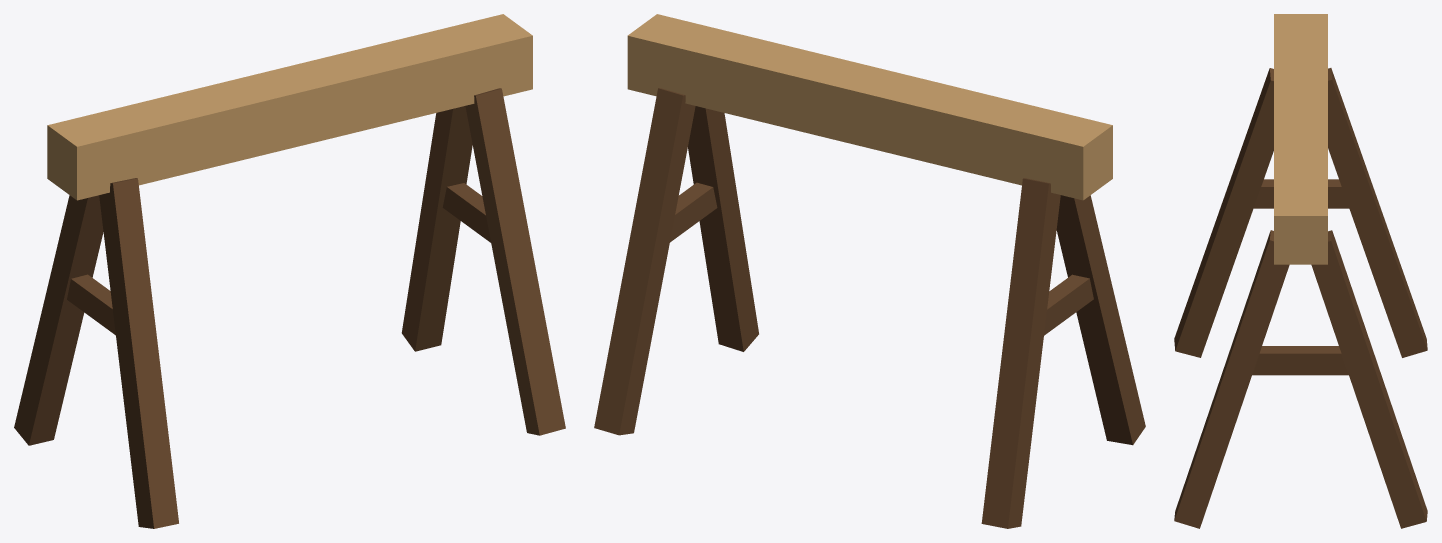
File: GT_Sawhorse_01.glb
The picture shows the model from 3 angles, left to right: view 1: azimuth 30°, elevation 25°; view 2: azimuth 150°, elevation 25°; view 3: azimuth 270°, elevation 25°; orthographic projection. The views are drawn at different scales.
Visible parts, largest first — view 1: GT_Sawhorse_01; view 2: GT_Sawhorse_01; view 3: GT_Sawhorse_01.
Boxes of the visible parts, left/top/right/bottom form: GT_Sawhorse_01: left=14, top=14, right=565, bottom=528; GT_Sawhorse_01: left=594, top=14, right=1145, bottom=528; GT_Sawhorse_01: left=1174, top=14, right=1427, bottom=528.
Size of the model in its own units: 0.8 by 0.5978 by 0.4246.
Materials: 1 (1 with a texture image).
